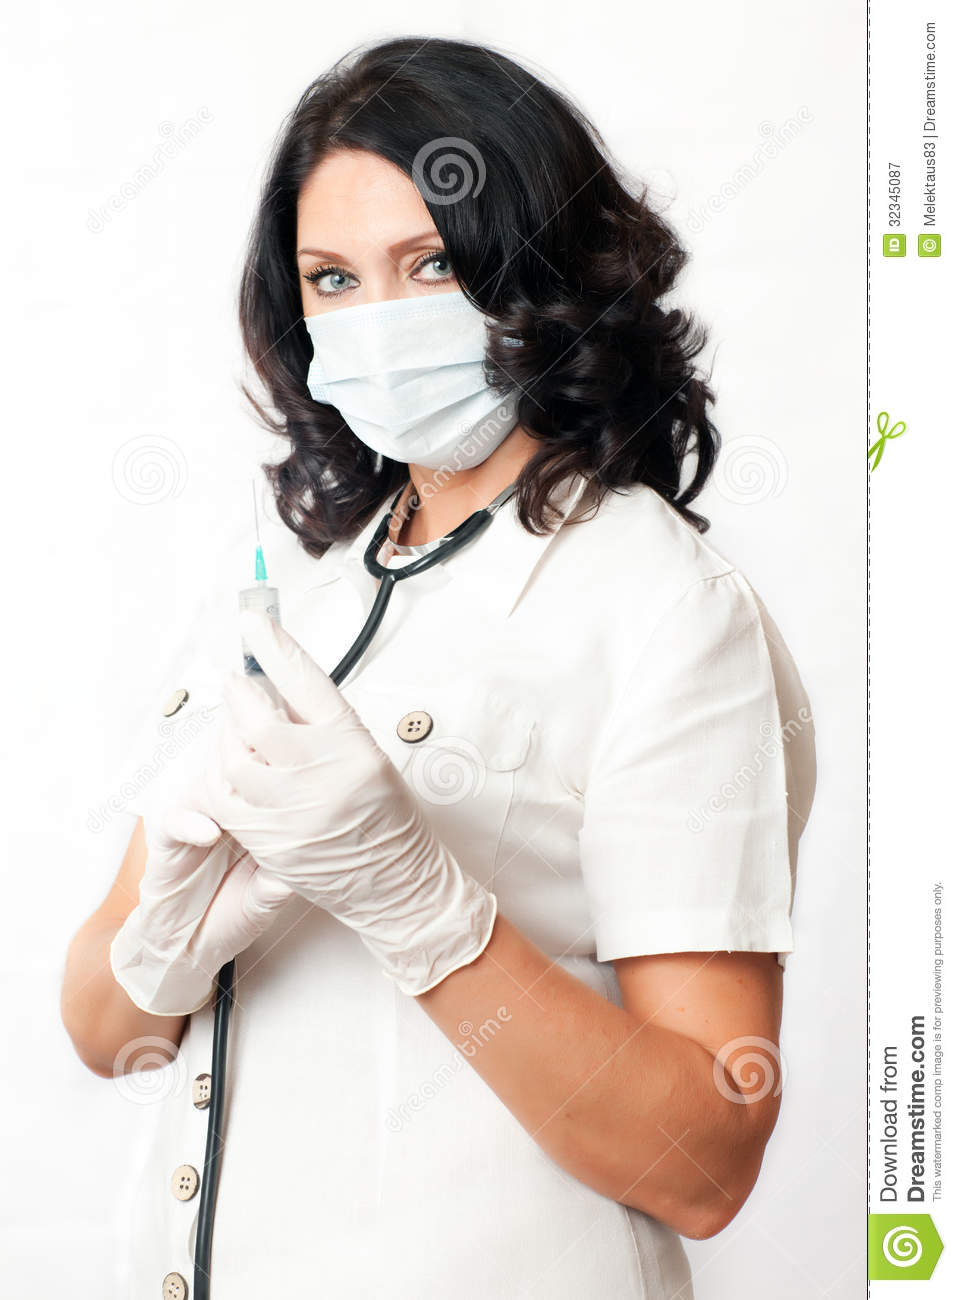mask: (300, 295, 530, 479)
